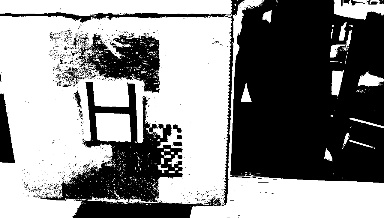H: (76, 78, 144, 144)
